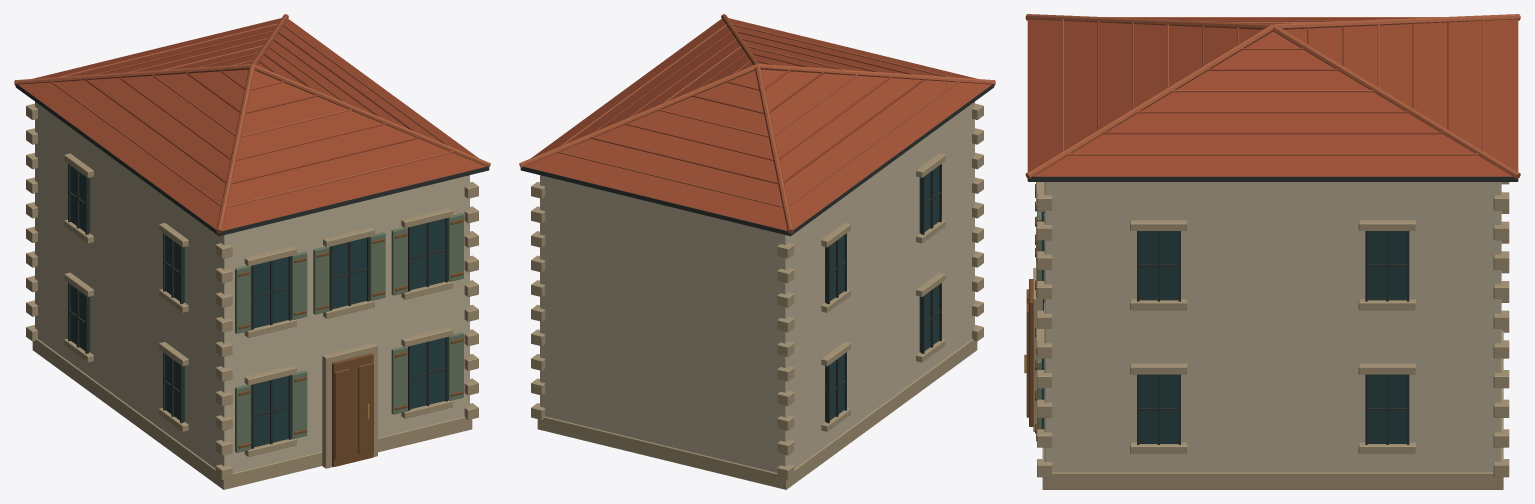
The model's file is house_a.glb.
3 renders of one model, left to right at view 1: azimuth 30°, elevation 25°; view 2: azimuth 150°, elevation 25°; view 3: azimuth 270°, elevation 25°, orthographic. The views are drawn at different scales.
Visible parts, largest first — view 1: house; view 2: house; view 3: house.
Part boxes in pixels (x1,y1,x2,y2): house: (14,14,490,489); house: (519,14,995,489); house: (1024,14,1520,489).
Bounding box in the file's own units: 7.36 × 8.35 × 9.56.
